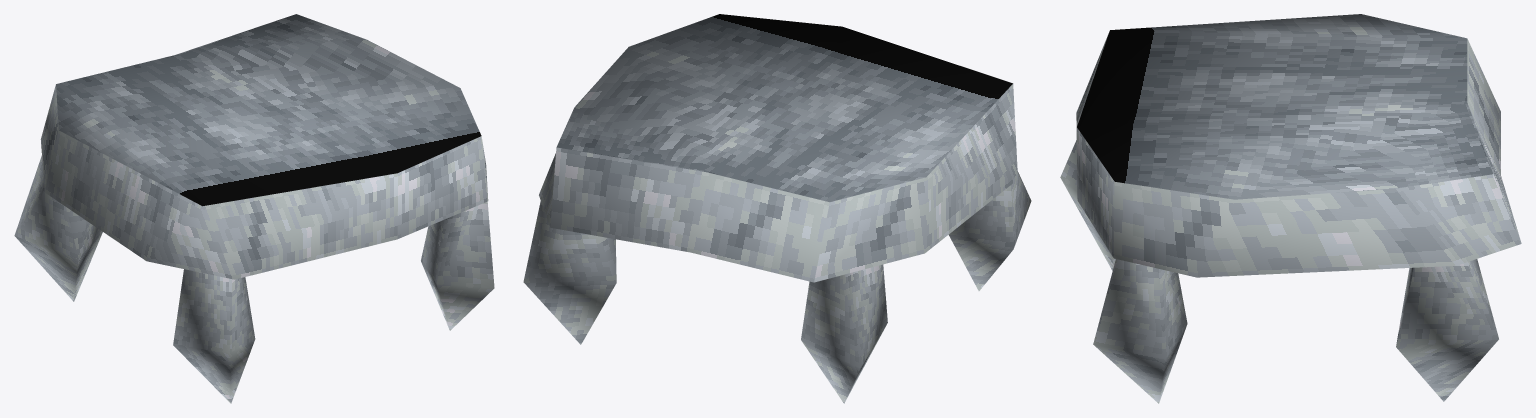
The picture shows the model from 3 angles, left to right: view 1: azimuth 30°, elevation 25°; view 2: azimuth 150°, elevation 25°; view 3: azimuth 270°, elevation 25°; orthographic projection. The views are drawn at different scales.
Parts seen in each view (by area): view 1: 3342IMIG12_03; view 2: 3342IMIG12_03; view 3: 3342IMIG12_03.
Part boxes in pixels (x1=…): 3342IMIG12_03: x1=14, y1=14, x2=494, y2=403; 3342IMIG12_03: x1=523, y1=14, x2=1031, y2=403; 3342IMIG12_03: x1=1060, y1=14, x2=1521, y2=403.
Bounding box in the file's own units: 0.896 × 0.4929 × 0.9021.
1 material, 1 textured.
